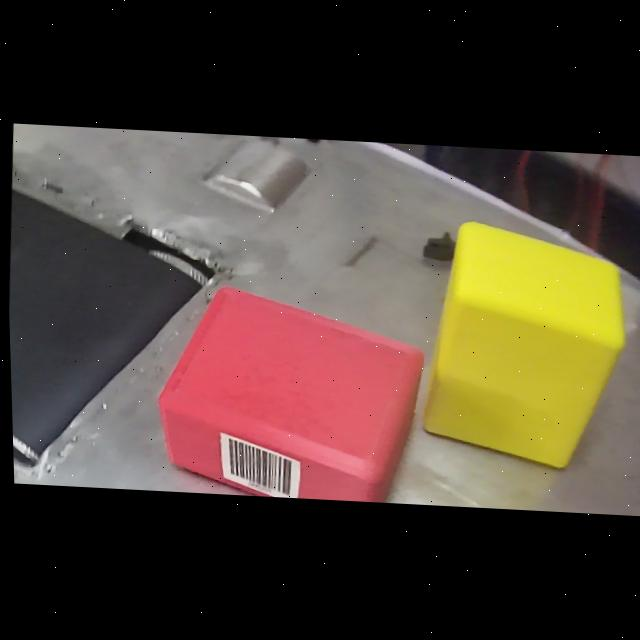redBox: (143, 275, 434, 505)
yellowBox: (413, 210, 639, 485)
